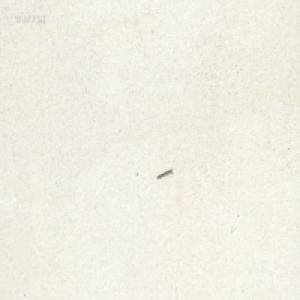Bolt: (156, 165, 172, 178)
